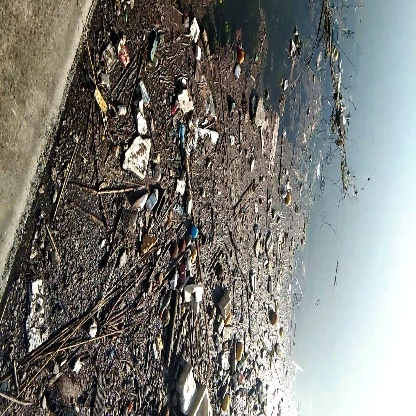plastic-garbage: (122, 135, 157, 181)
